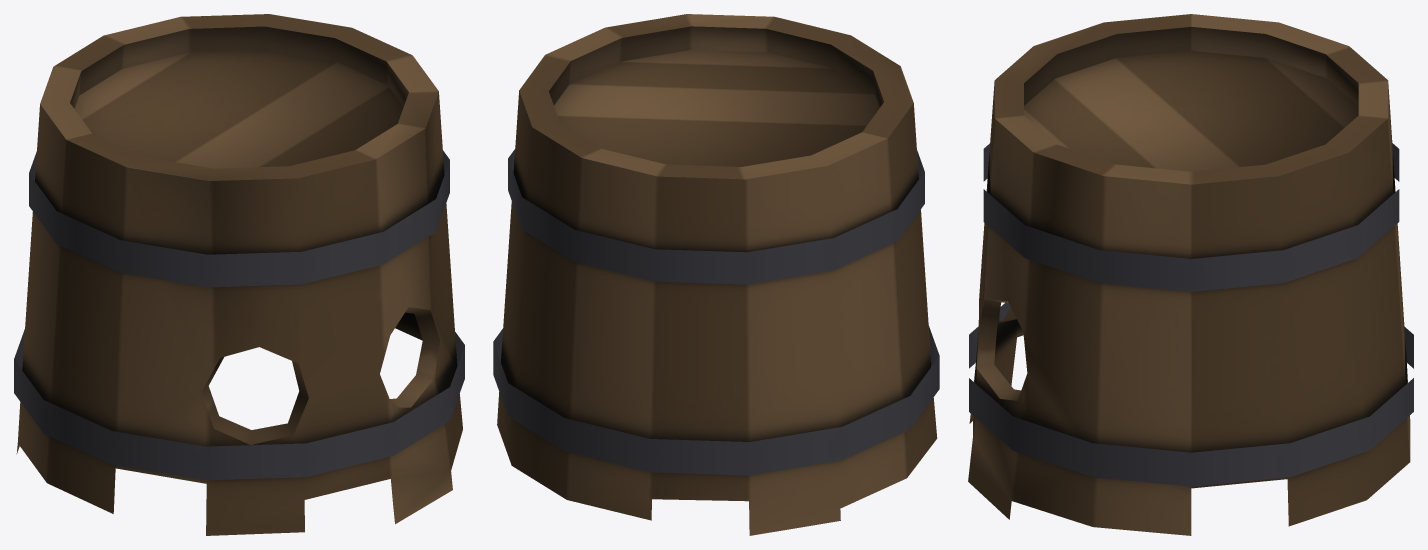
File: bucketHelmet.fbx
The picture shows the model from 3 angles, left to right: view 1: azimuth 30°, elevation 25°; view 2: azimuth 150°, elevation 25°; view 3: azimuth 270°, elevation 25°; orthographic projection. The views are drawn at different scales.
Visible parts, largest first — view 1: bucketHelmet; view 2: bucketHelmet; view 3: bucketHelmet.
Boxes of the visible parts, x1=… form: bucketHelmet: x1=14, y1=14, x2=464, y2=535; bucketHelmet: x1=493, y1=14, x2=939, y2=535; bucketHelmet: x1=968, y1=14, x2=1413, y2=535.
Size of the model in its own units: 54.97 by 47.86 by 53.69.
1 material, 1 textured.
